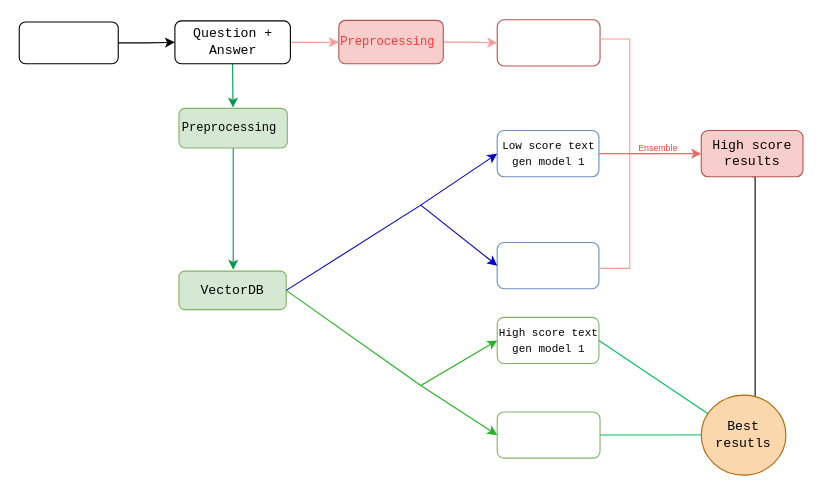
The diagram is 823 pixels wide and 494 high, and some of its shapes have lost their labels. Here are the shapes that lost their labels. From the top down, the centre of each, then its label:
At point (68, 42): "Dataset".
At point (548, 42): "BM25Plus".
At point (547, 265): "Low score text gen model 2".
At point (548, 434): "High score text gen model 2".
